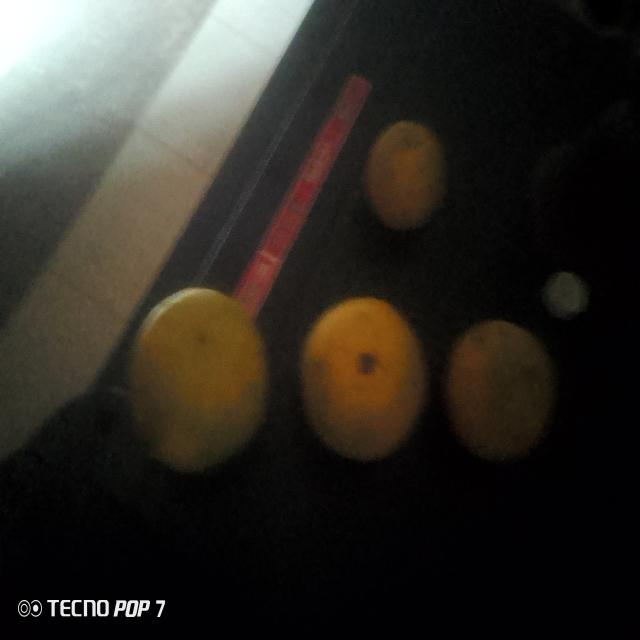Ripe orange: (133, 281, 271, 459), (302, 299, 423, 460), (445, 318, 558, 460), (369, 116, 449, 225)
